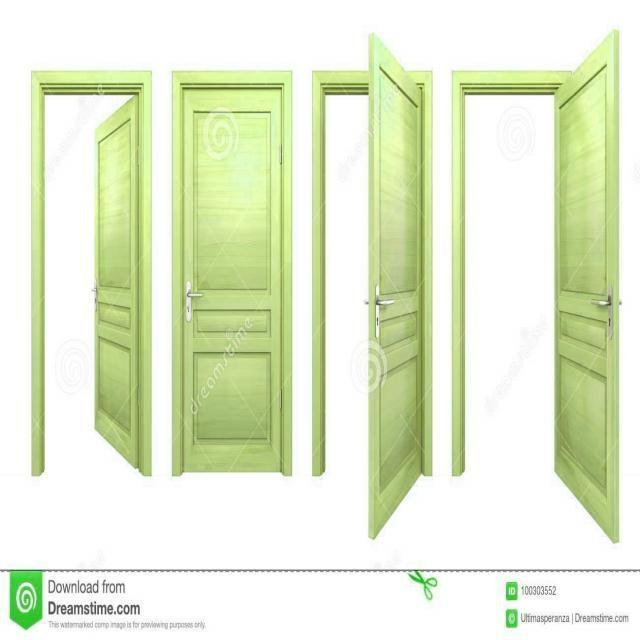door: (172, 72, 290, 476), (552, 29, 620, 543), (367, 32, 431, 539), (90, 94, 143, 480)
